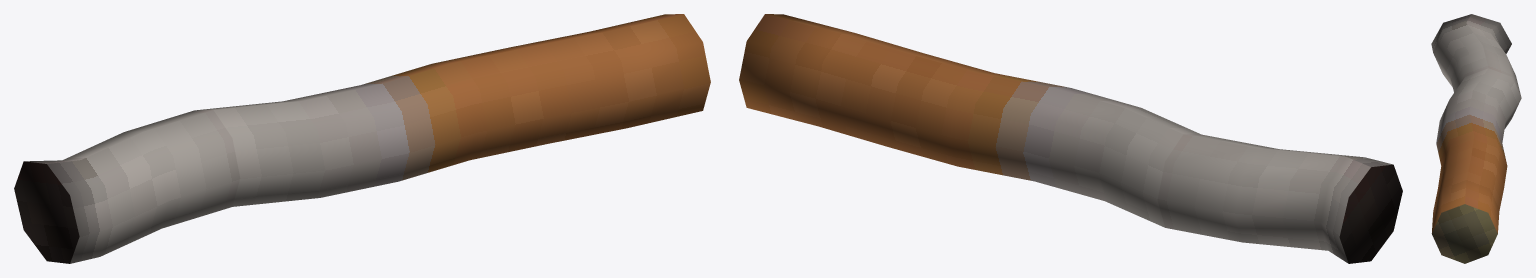
The model's file is cig_2.glb.
3 renders of one model, left to right at view 1: azimuth 30°, elevation 25°; view 2: azimuth 150°, elevation 25°; view 3: azimuth 270°, elevation 25°, orthographic. The views are drawn at different scales.
Visible parts, largest first — view 1: cig_2; view 2: cig_2; view 3: cig_2.
Boxes of the visible parts, x1,y1,x2,y2 form: cig_2: [14, 14, 710, 263]; cig_2: [739, 14, 1402, 263]; cig_2: [1431, 14, 1521, 263].
Bounding box in the file's own units: 0.102 × 0.015 × 0.0205.
1 material, 1 textured.
